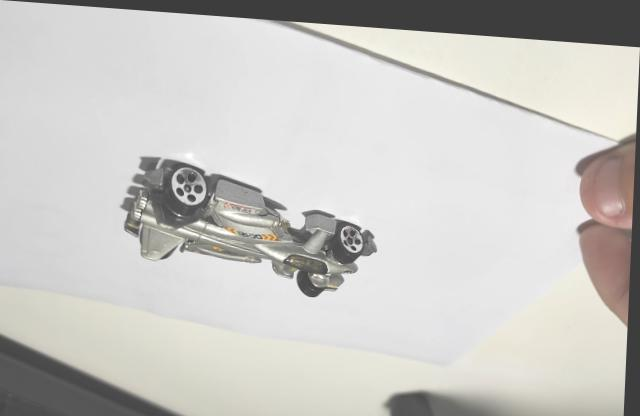05_DC121: (122, 153, 380, 292)
